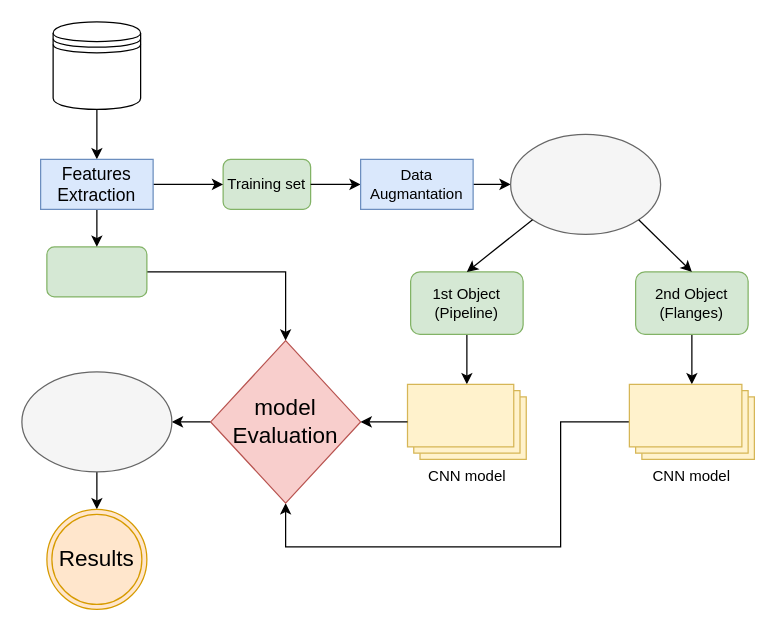
The diagram is 776 pixels wide and 631 high, and some of its shapes have lost their labels. The shapes that lost their labels are listed below. From the top down, each one's centre as x and y in pixels, then its label:
At [96,65]: "Data".
At [585,183]: "Classifier".
At [96,271]: "Testing set (15%)".
At [96,421]: "Select best models".
